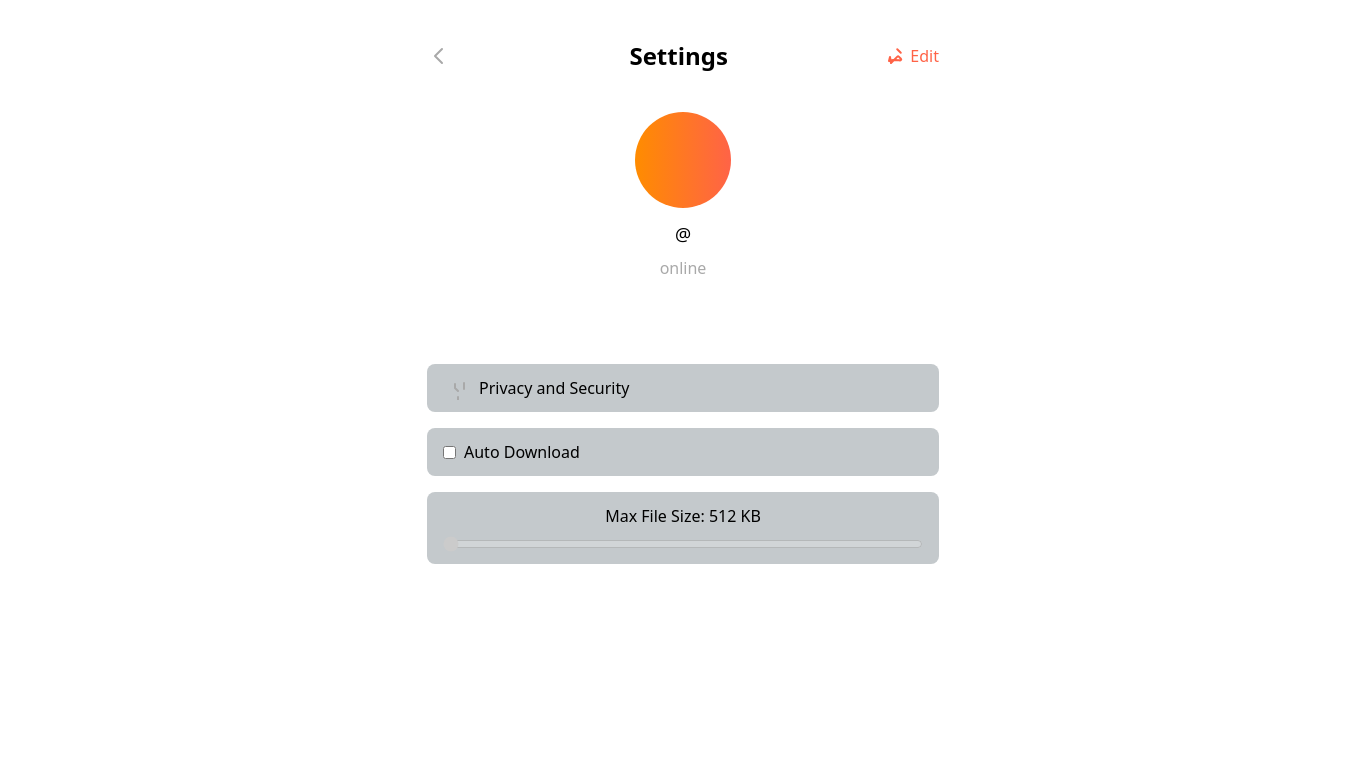
Test: Settings Component › toggles auto-download and updates slider state
Expected: the slider is disabled, [443,536,923,552]
Click the checkbox with test id "auto-download".
click(450, 452)  # box [443,446,456,458]
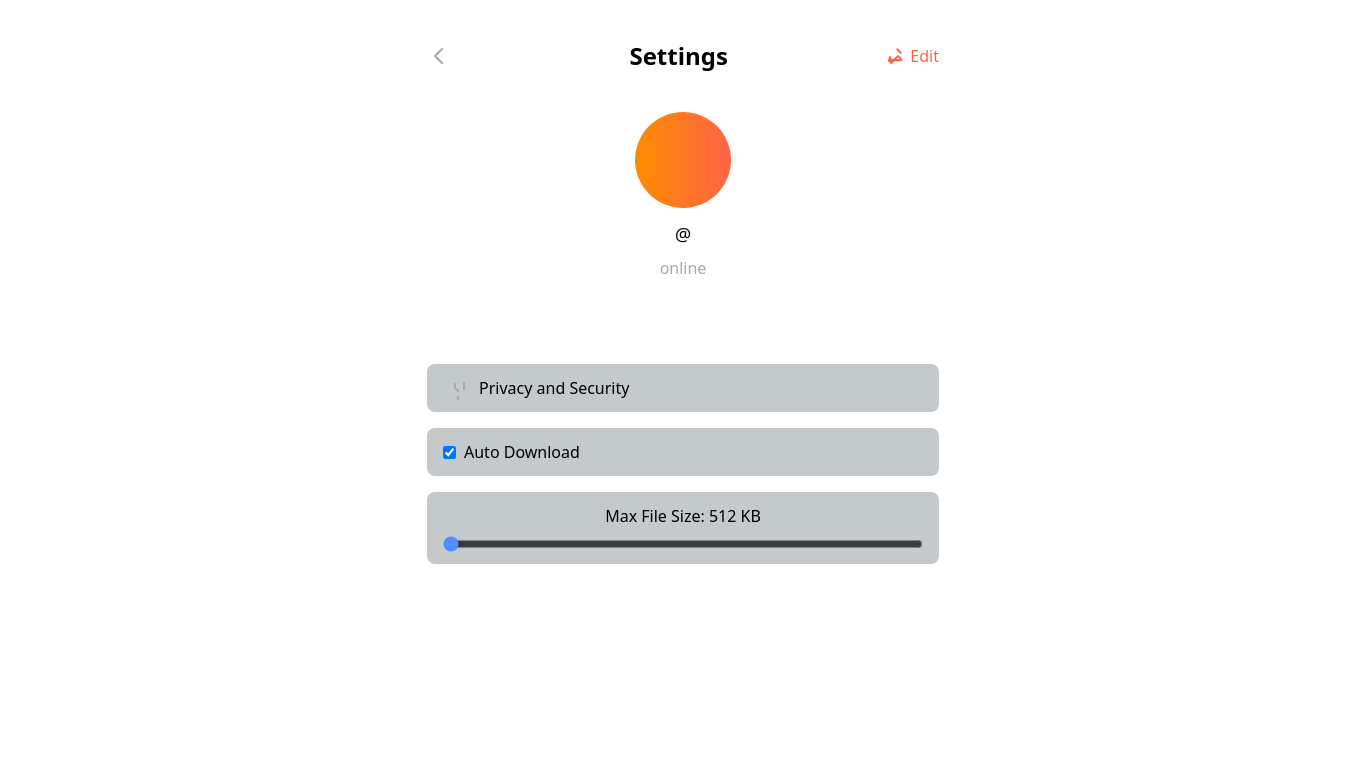
Expected: the checkbox with test id "auto-download" is checked, [443,446,456,458]
Expected: the slider is enabled, [443,536,923,552]
